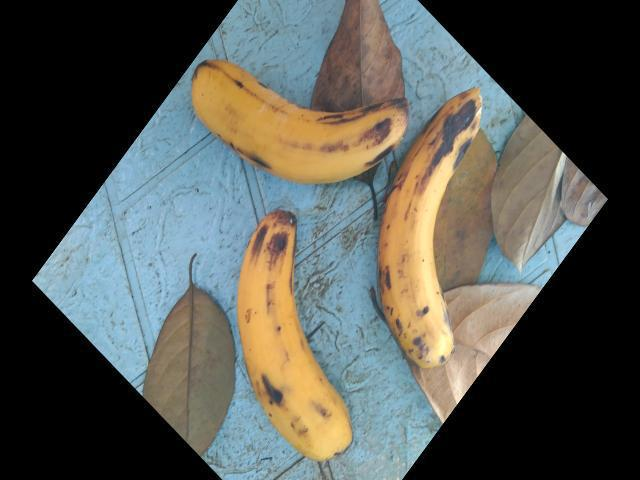overripe: (370, 92, 495, 370)
ripe: (233, 203, 377, 474), (174, 30, 412, 193)
